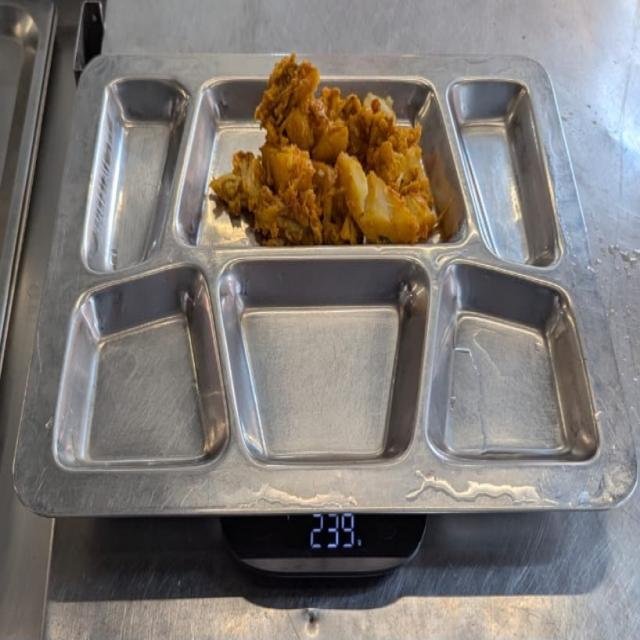Aloo Gobhi: (188, 52, 458, 255)
